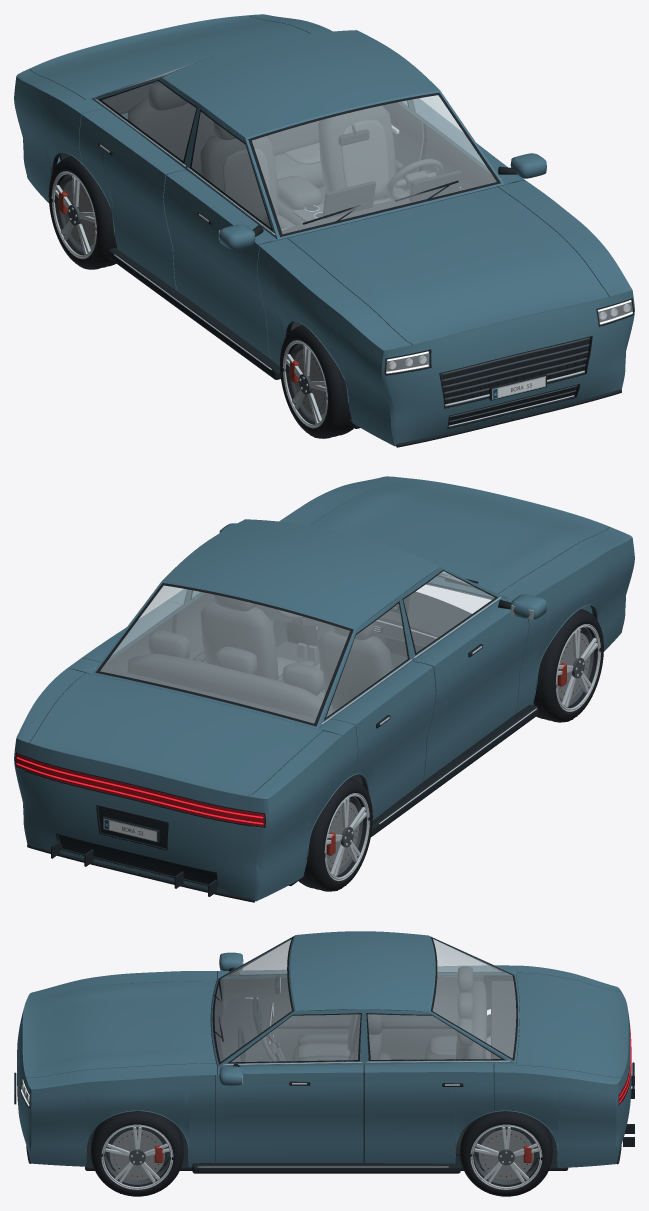
File: BoraS3.glb
3 renders of one model, top to bottom at view 1: azimuth 30°, elevation 25°; view 2: azimuth 150°, elevation 25°; view 3: azimuth 270°, elevation 25°, orthographic. The views are drawn at different scales.
Visible parts, largest first — view 1: Hood | centre panel, Windshield | clear curved glass, Roof | continuous crown, Front | continuous bumper and lamp apertures, Trunk lid, Front door | skin R, Front fender | skin R, Rear door | skin R, Rear quarter | skin R, Fender crown | L, Rear bench | sculpted back, DoorFR | clear curved window (+37 smaller); view 2: Rear window | clear curved glass, Trunk lid, Hood | centre panel, Roof | continuous crown, Rear | continuous bumper and lamp apertures, Front door | skin R, Rear door | skin R, Rear quarter | skin R, Front fender | skin R, Rear bench | sculpted back, DoorRR | clear curved window, DoorFR | clear curved window (+36 smaller); view 3: Hood | centre panel, Front door | skin L, Roof | continuous crown, Front fender | skin L, Rear door | skin L, Trunk lid, Rear quarter | skin L, Rear window | clear curved glass, Windshield | clear curved glass, DoorFL | clear curved window, DoorRL | clear curved window, DoorFR | contoured inner door card (+43 smaller).
Part boxes in pixels (left/top/right/bottom): Hood | centre panel: left=287, top=187, right=608, bottom=344; Windshield | clear curved glass: left=252, top=95, right=496, bottom=233; Roof | continuous crown: left=162, top=30, right=439, bottom=137; Front | continuous bumper and lamp apertures: left=381, top=290, right=634, bottom=446; Trunk lid: left=30, top=15, right=310, bottom=99; Front door | skin R: left=164, top=175, right=270, bottom=358; Front fender | skin R: left=257, top=246, right=394, bottom=446; Rear door | skin R: left=79, top=115, right=176, bottom=290; Rear quarter | skin R: left=14, top=76, right=82, bottom=202; Fender crown | L: left=258, top=238, right=412, bottom=350; Rear bench | sculpted back: left=128, top=97, right=319, bottom=173; DoorFR | clear curved window: left=192, top=112, right=270, bottom=227; Rear window | clear curved glass: left=100, top=585, right=349, bottom=723; Trunk lid: left=30, top=673, right=322, bottom=796; Hood | centre panel: left=311, top=479, right=608, bottom=593; Roof | continuous crown: left=162, top=519, right=439, bottom=628; Rear | continuous bumper and lamp apertures: left=14, top=738, right=269, bottom=901; Front door | skin R: left=422, top=611, right=528, bottom=781; Rear door | skin R: left=354, top=667, right=435, bottom=820; Rear quarter | skin R: left=256, top=725, right=357, bottom=901; Front fender | skin R: left=515, top=538, right=634, bottom=713; Rear bench | sculpted back: left=127, top=653, right=332, bottom=731; DoorRR | clear curved window: left=326, top=603, right=407, bottom=716; DoorFR | clear curved window: left=403, top=571, right=494, bottom=652; Hood | centre panel: left=23, top=981, right=216, bottom=1077; Front door | skin L: left=215, top=1072, right=363, bottom=1162; Roof | continuous crown: left=290, top=931, right=433, bottom=1011; Front fender | skin L: left=31, top=1075, right=214, bottom=1167; Rear door | skin L: left=364, top=1072, right=493, bottom=1163; Trunk lid: left=516, top=973, right=628, bottom=1077; Rear quarter | skin L: left=494, top=1072, right=616, bottom=1167; Rear window | clear curved glass: left=433, top=939, right=515, bottom=1057; Windshield | clear curved glass: left=215, top=939, right=291, bottom=1061; DoorFL | clear curved window: left=232, top=1014, right=360, bottom=1061; DoorRL | clear curved window: left=368, top=1014, right=500, bottom=1059; DoorFR | contoured inner door card: left=223, top=977, right=351, bottom=1061.
Bounding box in the file's own units: 2.19 × 1.51 × 4.63.
20 materials, 4 textured.
